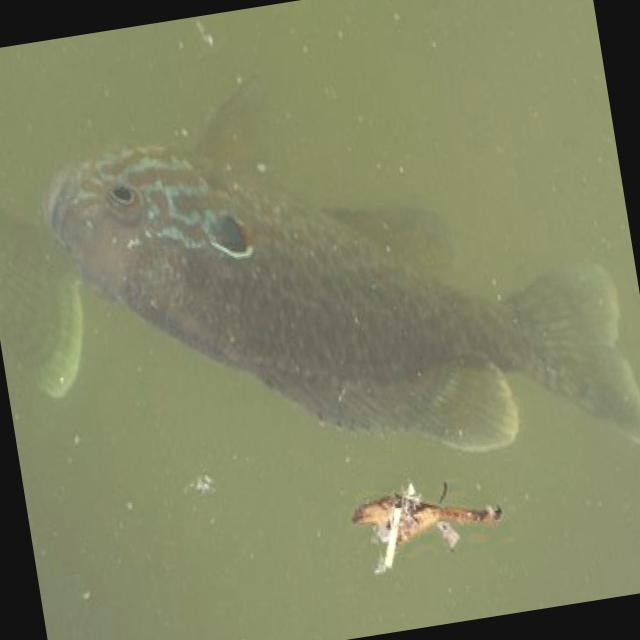Gunes Levregi: (23, 27, 640, 547)
